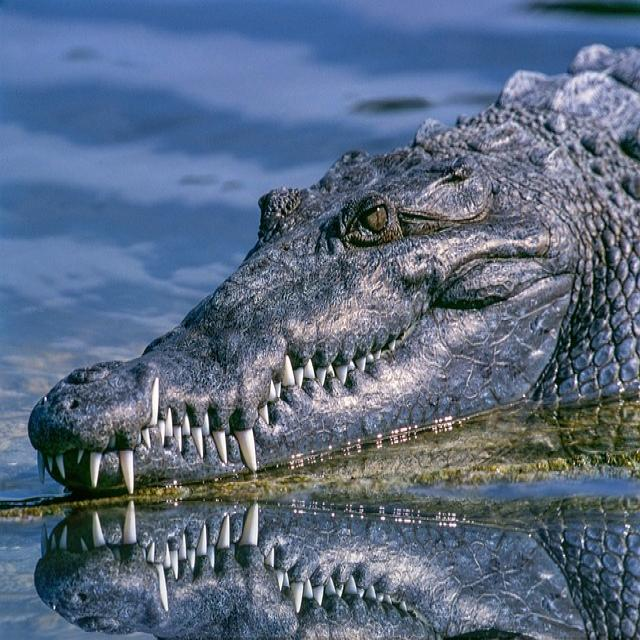Carnivorous: (28, 45, 640, 640)
